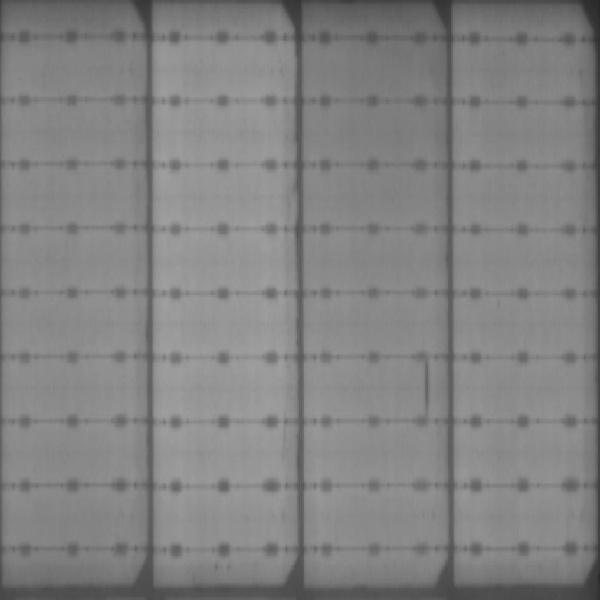scratch: (421, 350, 434, 422)
